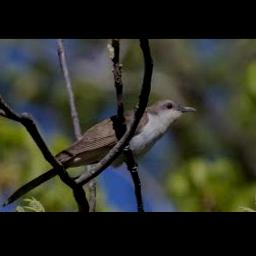Cuckoo: (3, 99, 196, 206)
